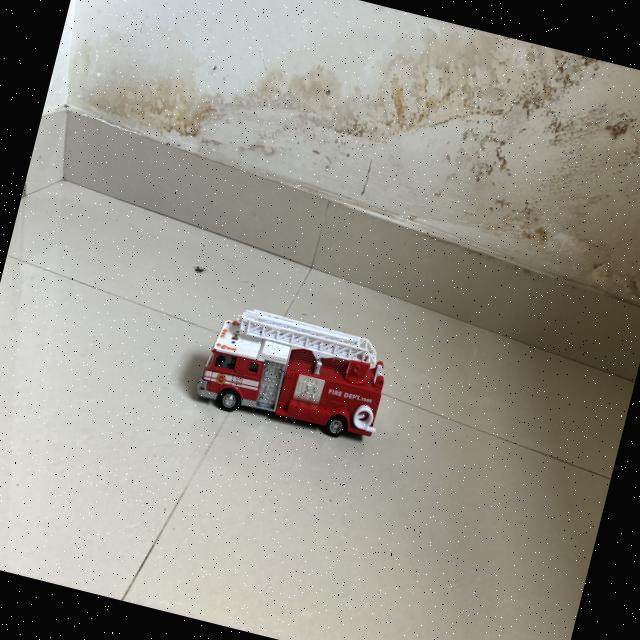fire-truck: (190, 307, 383, 439)
